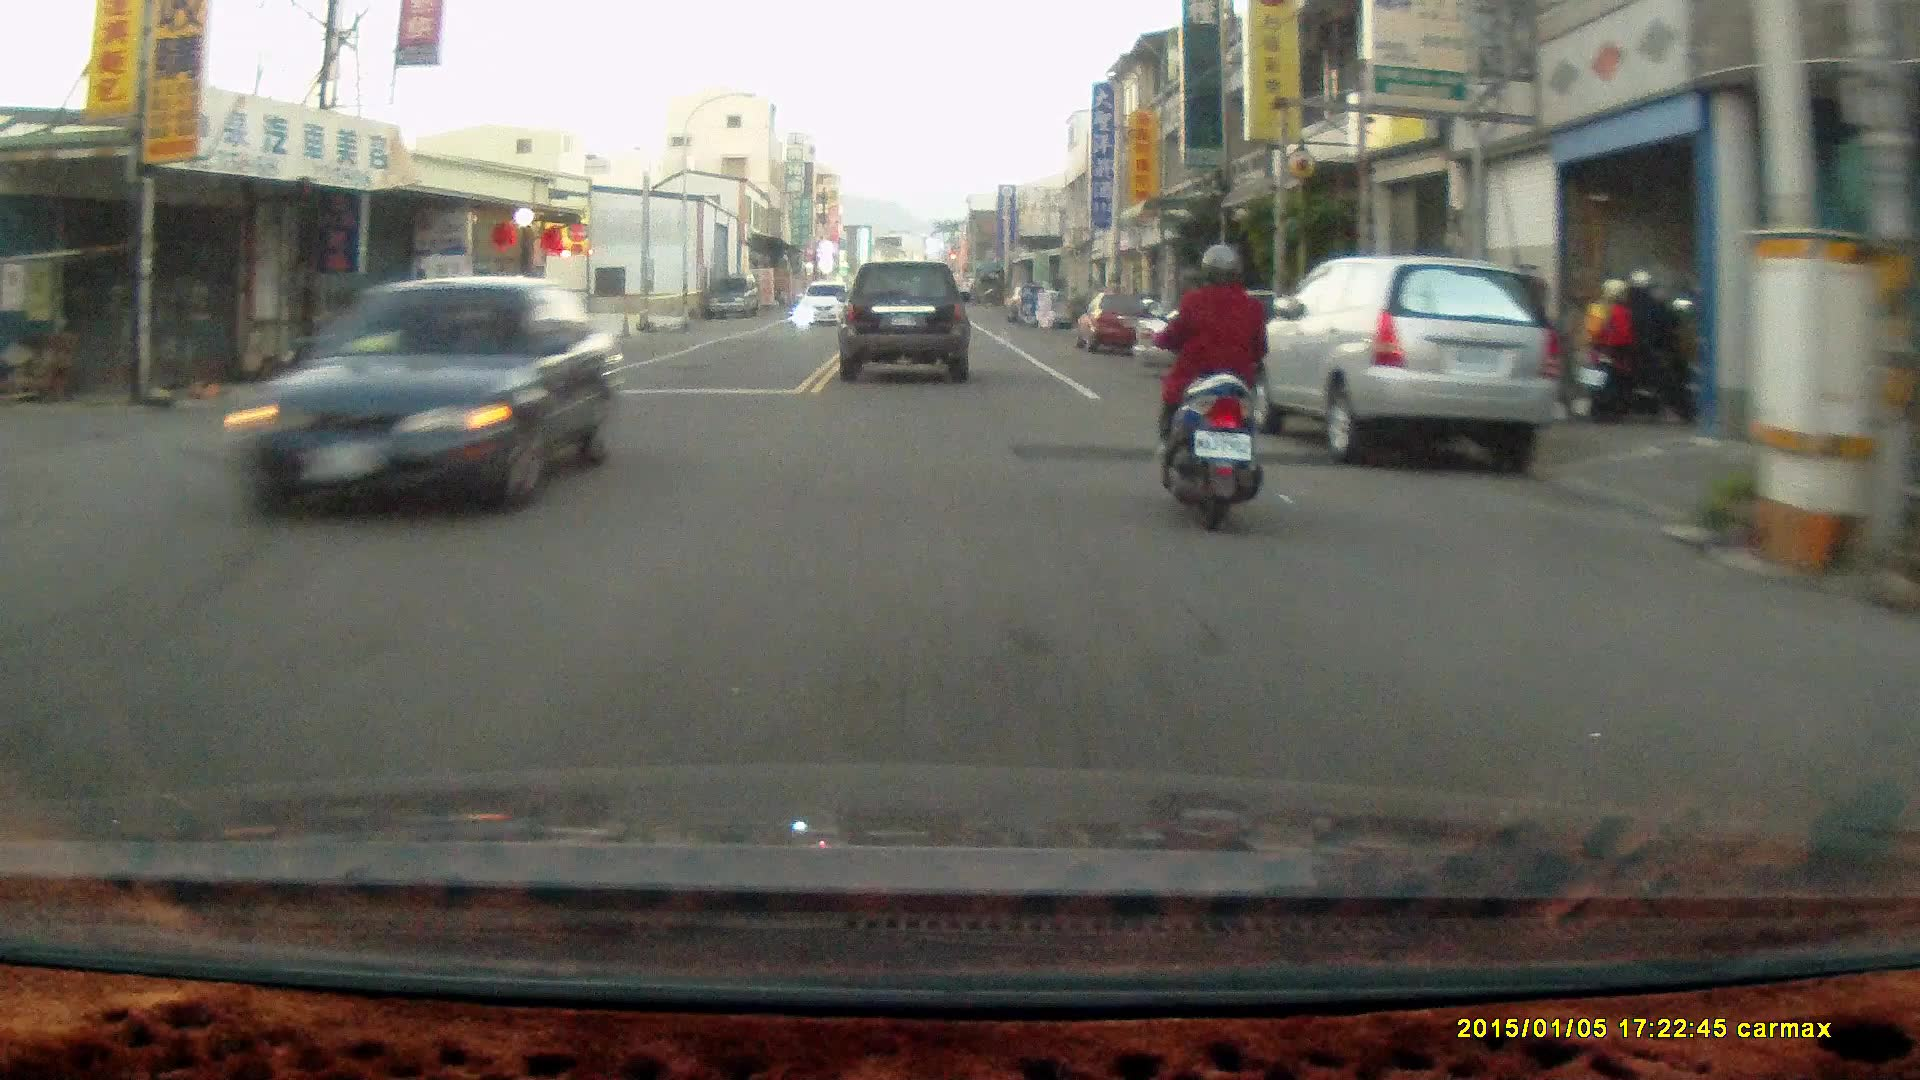rider: (1144, 243, 1266, 536), (1579, 263, 1695, 426)
vehicle: (232, 276, 620, 520), (1250, 256, 1558, 463), (839, 260, 972, 386), (1077, 291, 1155, 356), (794, 279, 849, 328)
